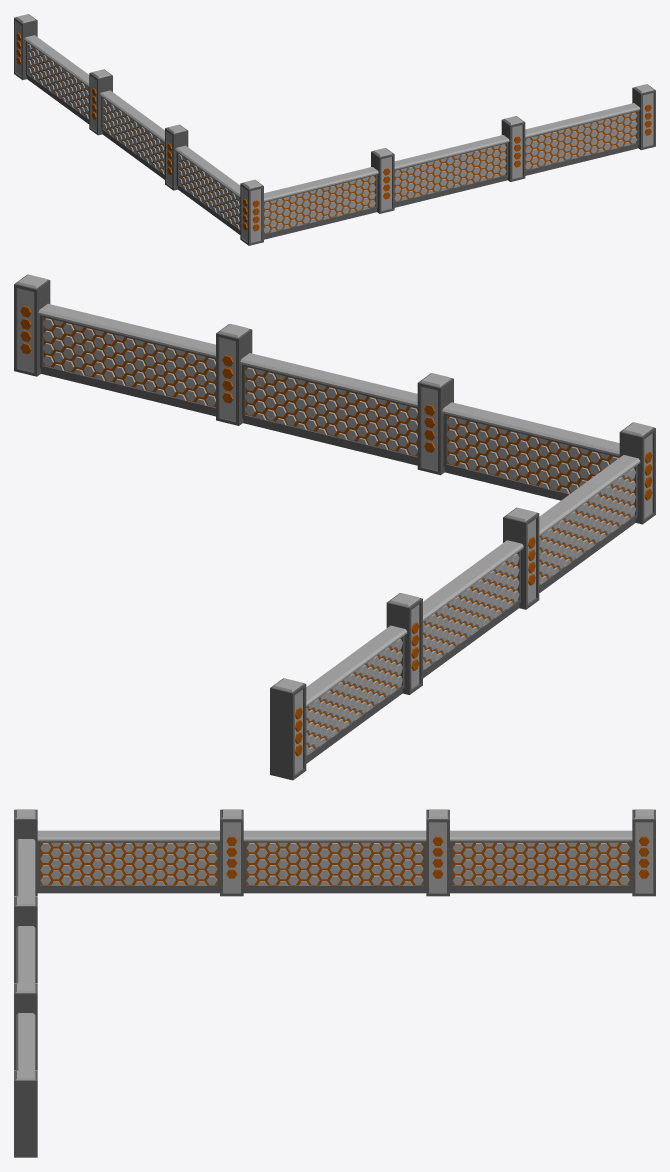
Rendered from Garden_wall_fence_08.FBX.
3 views of the same model, one above another, from view 1: azimuth 30°, elevation 25°; view 2: azimuth 150°, elevation 25°; view 3: azimuth 270°, elevation 25° (orthographic). The views are drawn at different scales.
Visible parts, largest first — view 1: Plane007, Plane008, Plane003, Plane009, Plane011, Plane010, Box004, Box008, Box003, Box009, Box011, Box012 (+1 smaller); view 2: Plane007, Plane008, Plane003, Plane009, Plane011, Plane010, Box012, Box003, Box009, Box008, Box010, Box004 (+1 smaller); view 3: Plane010, Plane009, Plane011, Box010, Box011, Box012, Box009, Plane003, Plane007, Plane008, Box003, Box004 (+1 smaller).
Boxes of the visible parts, bbox=[...] form: Plane007: bbox=[394, 135, 509, 207]; Plane008: bbox=[525, 103, 640, 175]; Plane003: bbox=[264, 167, 378, 239]; Plane009: bbox=[175, 145, 240, 234]; Plane011: bbox=[24, 35, 89, 124]; Plane010: bbox=[99, 90, 164, 179]; Box004: bbox=[240, 179, 263, 245]; Box008: bbox=[501, 116, 525, 181]; Box003: bbox=[371, 148, 394, 213]; Box009: bbox=[632, 84, 655, 150]; Box011: bbox=[89, 69, 112, 135]; Box012: bbox=[14, 14, 37, 80]; Plane007: bbox=[240, 353, 417, 465]; Plane008: bbox=[38, 303, 215, 416]; Plane003: bbox=[442, 402, 619, 500]; Plane009: bbox=[539, 455, 640, 592]; Plane011: bbox=[306, 625, 407, 763]; Plane010: bbox=[423, 540, 523, 678]; Box012: bbox=[270, 678, 306, 780]; Box003: bbox=[417, 373, 453, 475]; Box009: bbox=[14, 274, 50, 376]; Box008: bbox=[216, 324, 252, 425]; Box010: bbox=[503, 507, 539, 609]; Box004: bbox=[619, 422, 655, 524]; Plane010: bbox=[243, 830, 426, 893]; Plane009: bbox=[37, 830, 219, 893]; Plane011: bbox=[450, 830, 632, 893]; Box010: bbox=[220, 809, 243, 896]; Box011: bbox=[426, 809, 449, 896]; Box012: bbox=[632, 809, 655, 896]; Box009: bbox=[14, 1070, 37, 1157]; Plane003: bbox=[16, 839, 35, 896]; Plane007: bbox=[16, 926, 35, 983]; Plane008: bbox=[16, 1013, 35, 1070]; Box003: bbox=[14, 896, 37, 983]; Box004: bbox=[14, 809, 37, 896].
Size of the model in its own units: 682 by 92 by 682.
